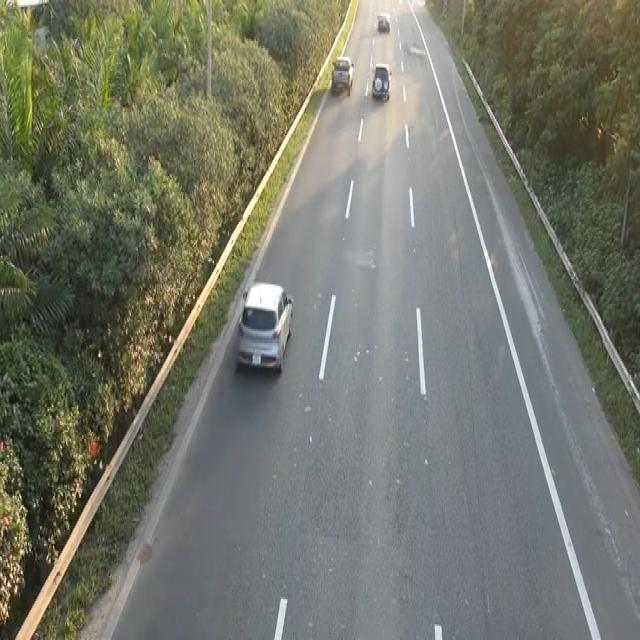bus: (234, 277, 295, 375)
car: (370, 60, 392, 101)
